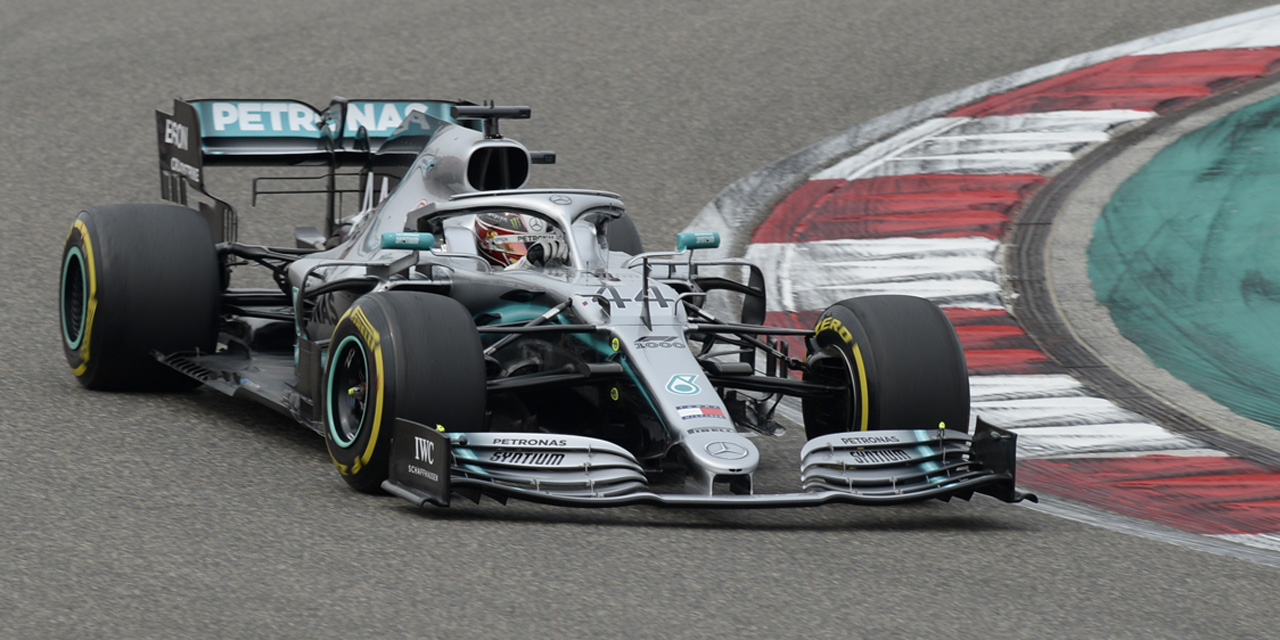Formule 1: (60, 98, 1016, 515)
